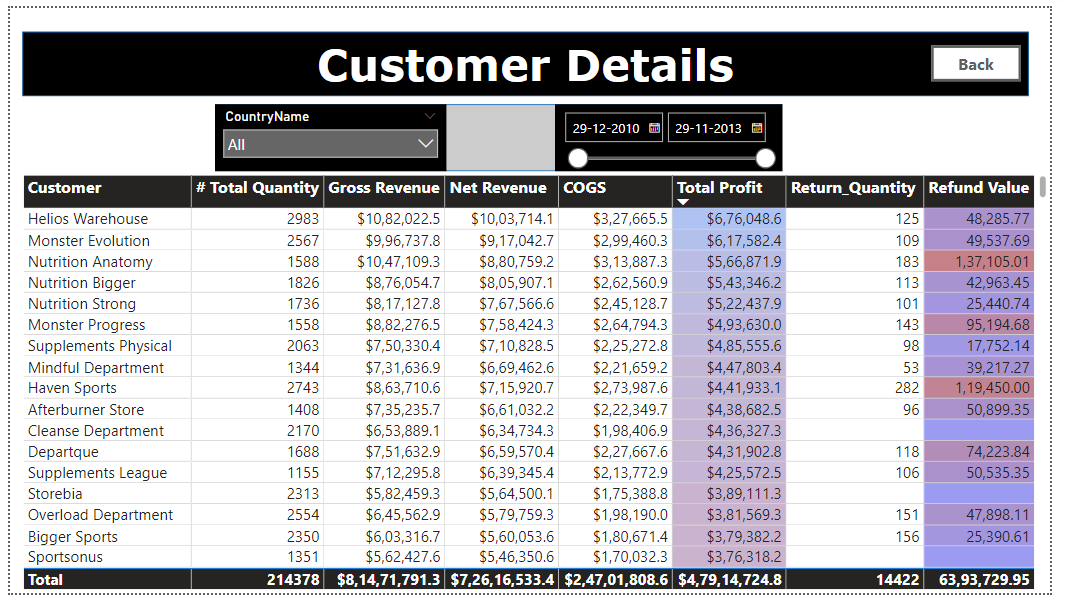

The dashboard page shown, as its layout file describes it:
{"tool":"powerbi","page":{"name":"Customer Details","canvas":[1280,720],"ordinal":6},"visuals":[{"type":"shape","box":[252.8,118.5,697.8,82.3],"z":0},{"type":"tableEx","fields":{"Values":["DimCustomers.Customer","MeasuresTable.# Total Quantity","MeasuresTable.Gross Revenue","MeasuresTable.Net Revenue","MeasuresTable.COGS","MeasuresTable.Total Profit","MeasuresTable.Return_Quantity","MeasuresTable.Refund Value"]},"box":[10.1,200.8,1269.9,518.6],"z":1000},{"type":"shape","box":[15.9,28.9,1238.1,79.5],"z":2000},{"type":"slicer","fields":{"Values":["DimCustomers.CountryName"]},"box":[252.8,118.5,284.6,82.3],"z":3000},{"type":"slicer","fields":{"Values":["DimDates.Date"]},"box":[670.3,118.5,280.3,82.3],"z":5000},{"type":"actionButton","box":[1134.4,46.5,110,44],"z":5001}]}

Visuals, with their boxes in screenshot pixels (x1, y1, x2, y2), scaled from the page's 1280x720 canvas onto the 1065x605 screenshot:
shape: box=[210, 100, 791, 169]
tableEx - DimCustomers.Customer x MeasuresTable.# Total Quantity: box=[8, 169, 1064, 604]
shape: box=[13, 24, 1043, 91]
slicer - DimCustomers.CountryName: box=[210, 100, 447, 169]
slicer - DimDates.Date: box=[558, 100, 791, 169]
actionButton: box=[944, 39, 1035, 76]
